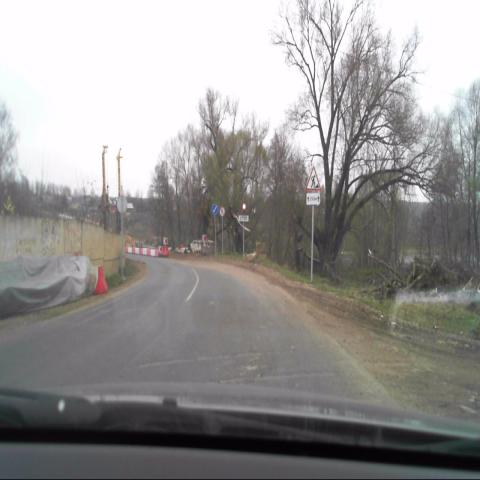1_25: (304, 166, 320, 190)
4_2_2: (212, 203, 218, 215)
